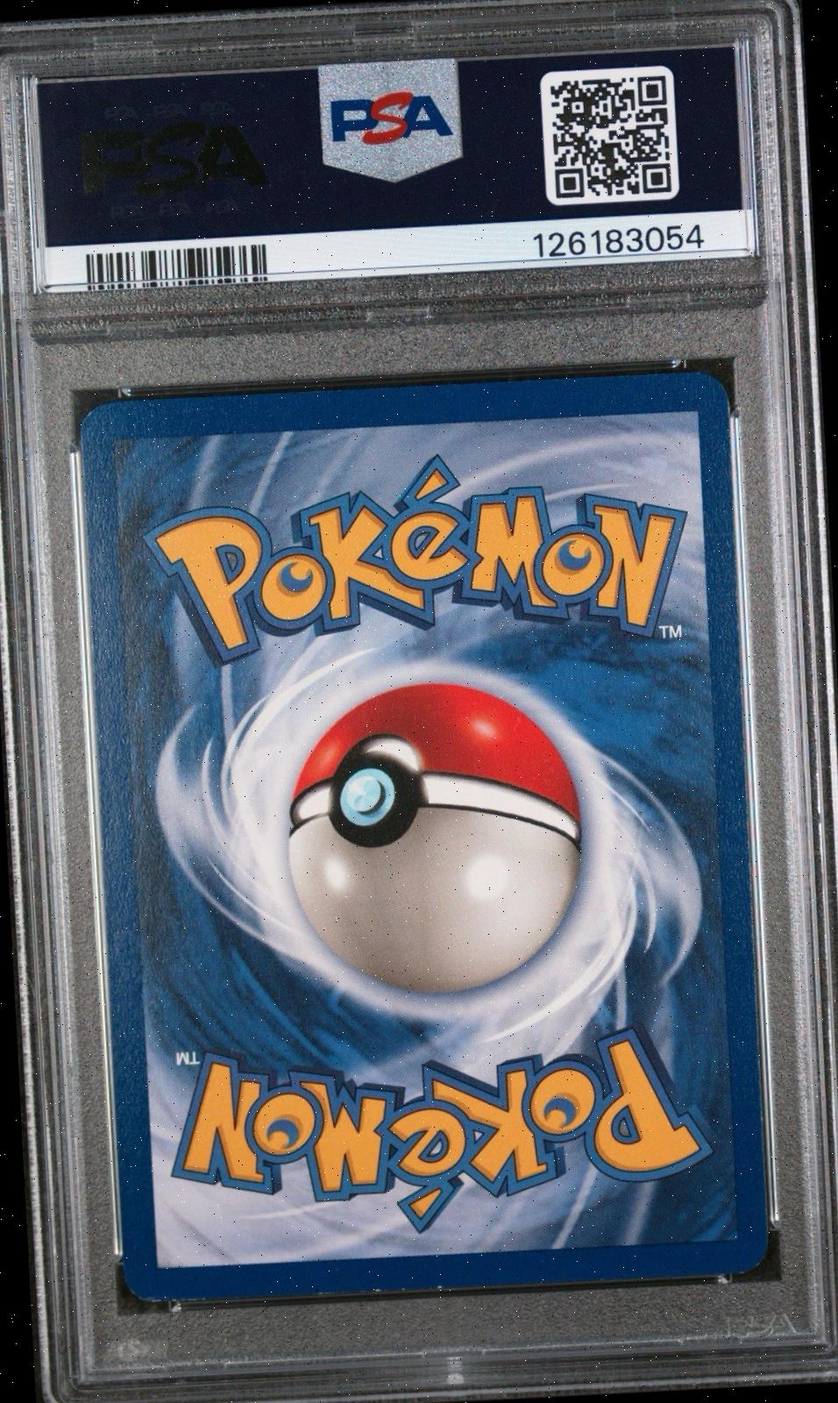card-2UtV: (78, 370, 770, 1303)
